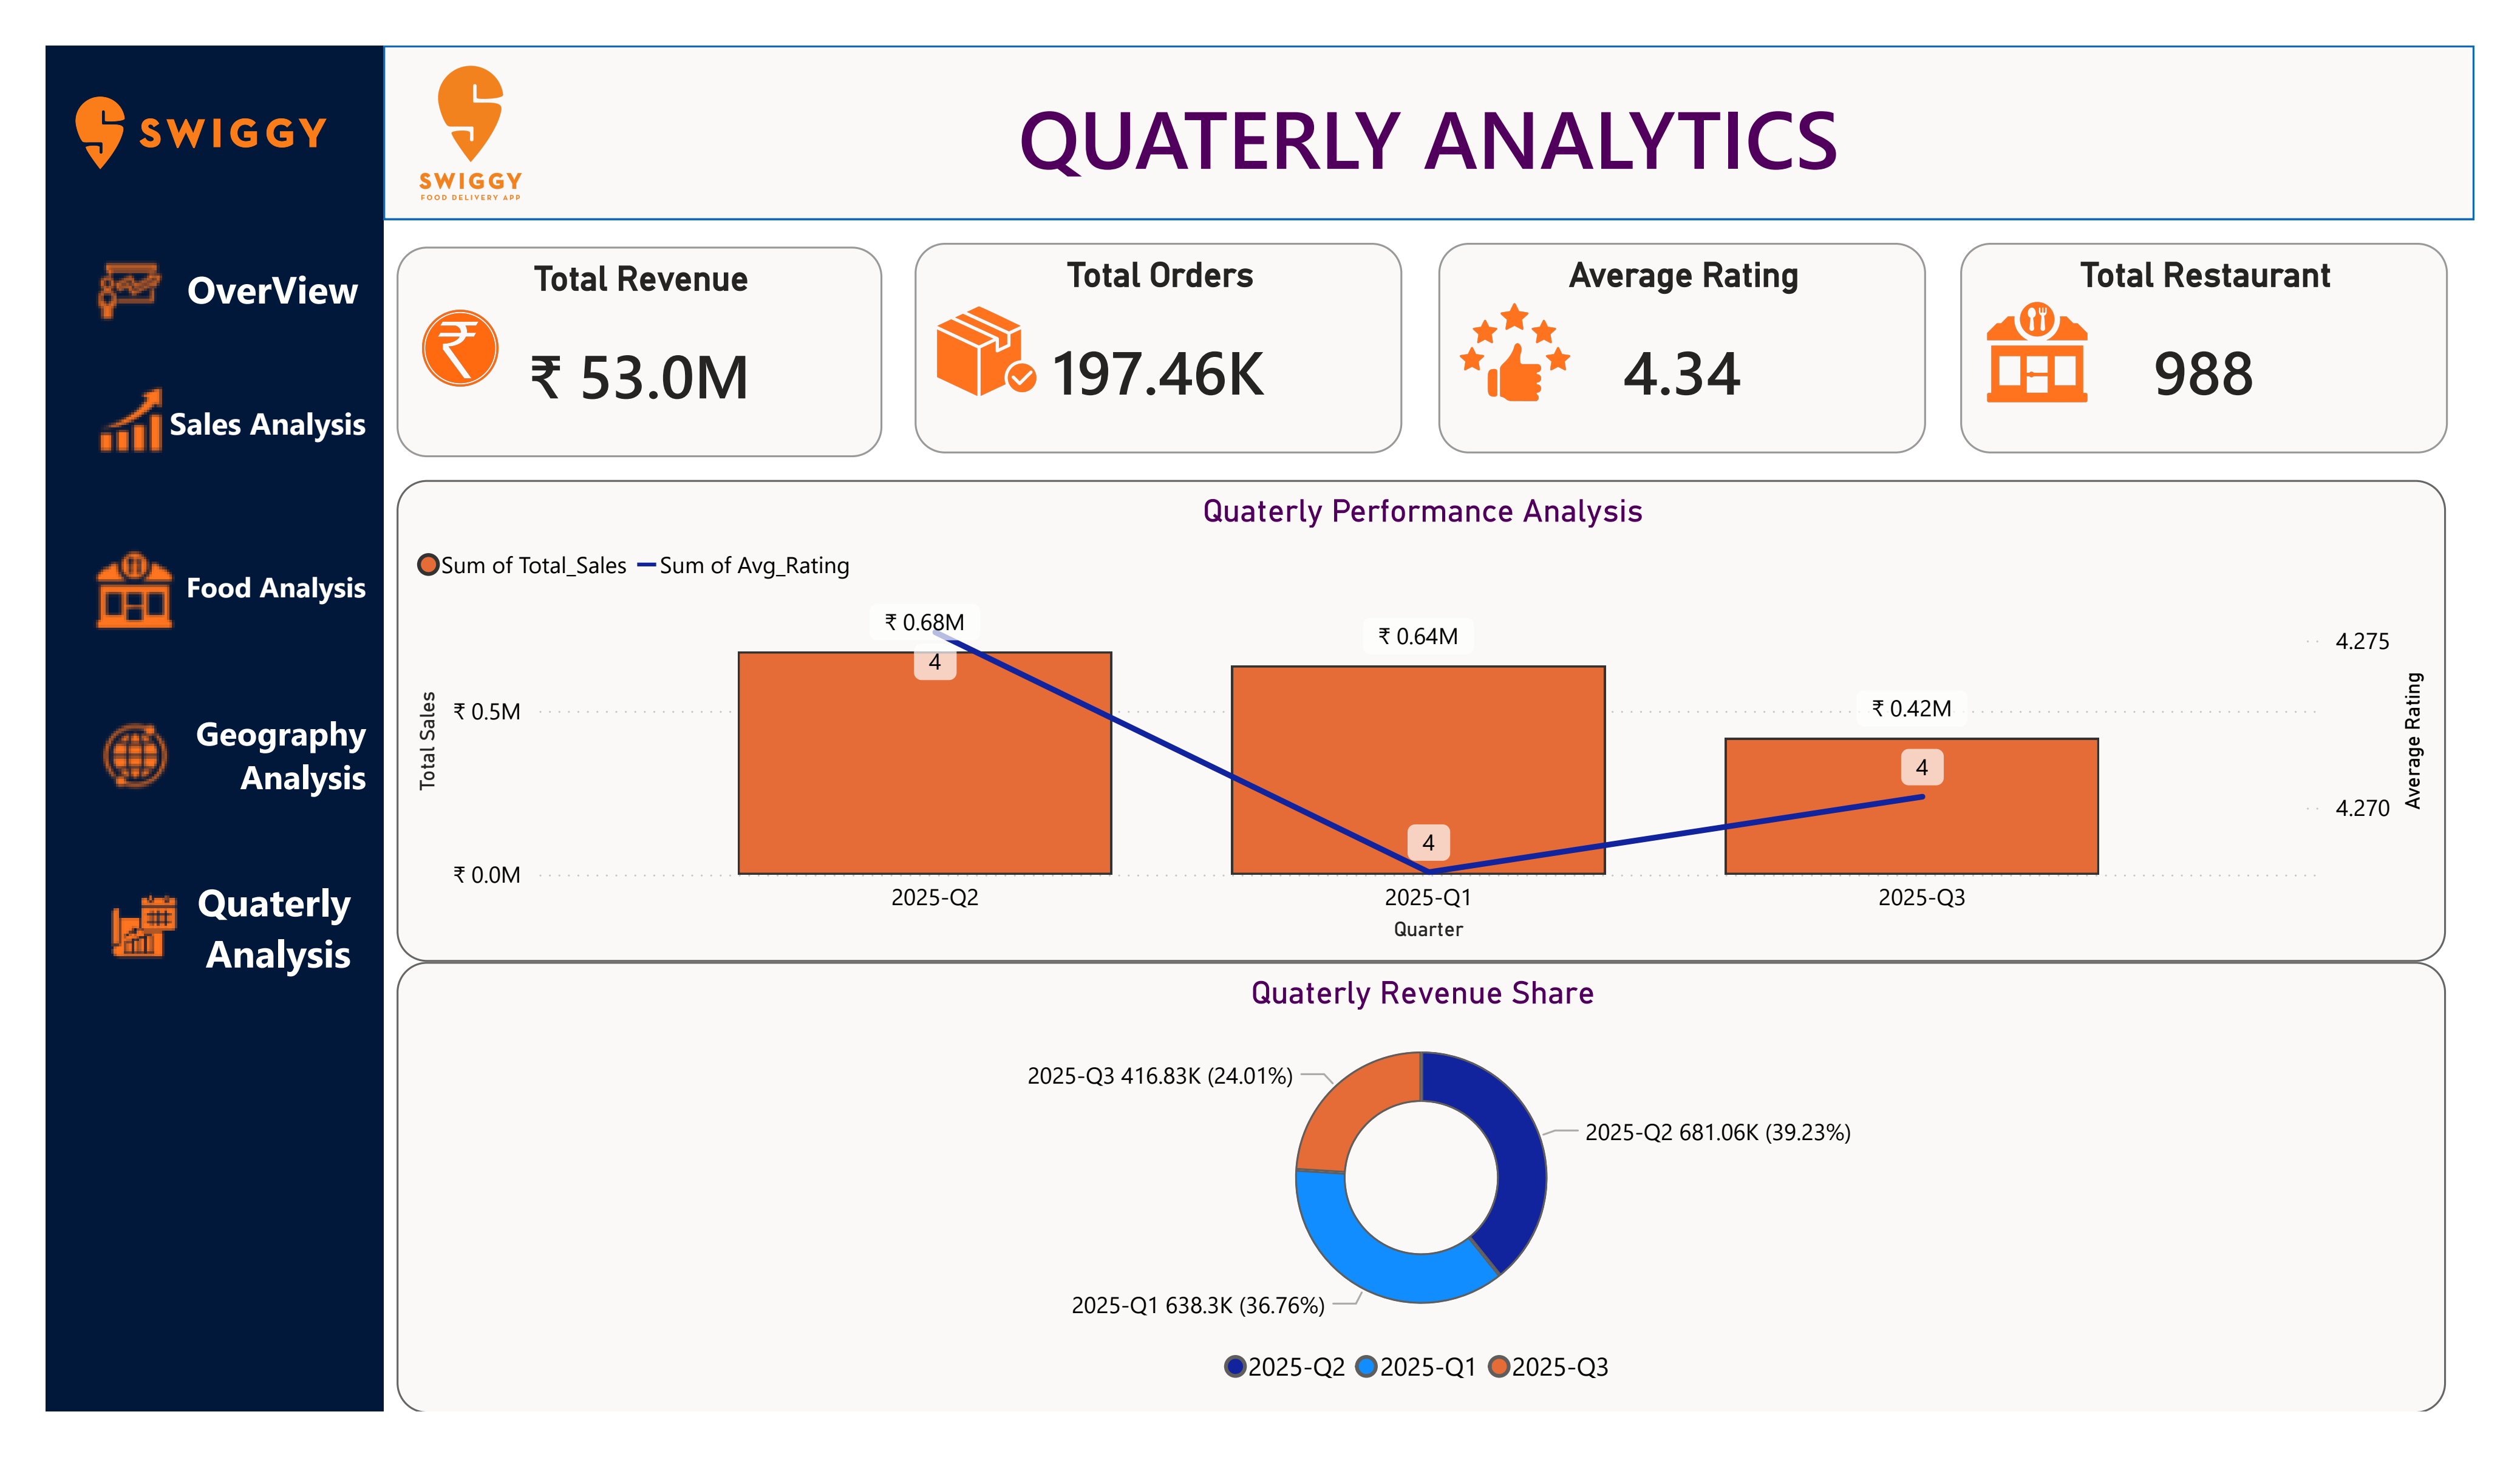

This screenshot's page, from the dashboard's own definition file:
{"tool":"powerbi","page":{"name":"Quaterly analysis","canvas":[1280,720],"ordinal":4},"visuals":[{"type":"group","id":"g1","title":"Group 1","box":[185.2,105.7,256.6,111.1],"z":0},{"type":"group","id":"g2","title":"Group 2","box":[458.3,104.3,256.6,111.1],"z":1000},{"type":"group","id":"g3","title":"Group 3","box":[733.9,104.3,256.6,111.1],"z":2000},{"type":"group","id":"g4","title":"Group 4","box":[1008.6,104.3,256.6,111.1],"z":3000},{"type":"image","box":[734.1,105.7,81,111.1],"z":4000},{"type":"image","box":[1008.6,105.7,81,111.1],"z":5000},{"type":"cardVisual","title":"Total Restaurant","fields":{"Data":["Count(swiggy_data.Restaurant Name)"]},"box":[1008.6,104.3,256.6,111.1],"z":6000,"group":"g4"},{"type":"cardVisual","title":"Total Revenue","fields":{"Data":["Sum(swiggy_data.Price (INR))"]},"box":[185.2,105.7,256,111.1],"z":6000,"group":"g1"},{"type":"image","box":[456.9,105.7,78.2,109.8],"z":6000},{"type":"image","box":[185.2,104.3,67.2,111.1],"z":7000},{"type":"cardVisual","title":"Total Orders","fields":{"Data":["CountNonNull(swiggy_data.Order Date)"]},"box":[458.3,104.3,256.6,111.1],"z":7000,"group":"g2"},{"type":"shape","box":[0,0,178.4,720.4],"z":8000},{"type":"cardVisual","title":"Average Rating","fields":{"Data":["Avg(swiggy_data.Rating)"]},"box":[733.9,104.3,256.6,111.1],"z":8000,"group":"g3"},{"type":"image","box":[16.5,0,131.7,91.9],"z":9000},{"type":"shape","box":[178.1,0,1101.9,91.9],"z":10000},{"type":"image","box":[126.2,0,196.2,91.9],"z":11000},{"type":"lineClusteredColumnComboChart","title":"Quaterly Performance Analysis","fields":{"Category":["quarterly_analysis.Quarter"],"Y":["Sum(quarterly_analysis.Total_Sales)"],"Y2":["Sum(quarterly_analysis.Avg_Rating)"]},"box":[185.2,229.2,1079.9,253.9],"z":12000},{"type":"donutChart","title":"Quaterly Revenue Share","fields":{"Y":["Sum(quarterly_analysis.Total_Sales)"],"Category":["quarterly_analysis.Quarter"]},"box":[185.1,482.5,1080.1,238.5],"z":13000},{"type":"textbox","box":[178.1,13.7,1101.9,91.9],"z":14000},{"type":"actionButton","box":[0,85.1,168.8,89.2],"z":14001},{"type":"actionButton","box":[4.1,152.3,168.8,89.2],"z":14002},{"type":"actionButton","box":[4.1,241.5,168.8,89.2],"z":14003},{"type":"actionButton","box":[3.7,419.4,168.8,89.3],"z":14004},{"type":"actionButton","box":[7.3,330.2,168.8,89.3],"z":14005}]}

Visuals, with their boxes on the page's 1280x720 design canvas (x1, y1, x2, y2). These are canvas units, not pixel positions in the 2520x1457 screenshot, which may show the page scaled, cropped or inside an application window:
"Group 1" group: (185, 106, 442, 217)
"Group 2" group: (458, 104, 715, 215)
"Group 3" group: (734, 104, 990, 215)
"Group 4" group: (1009, 104, 1265, 215)
image: (734, 106, 815, 217)
image: (1009, 106, 1090, 217)
"Total Restaurant" cardVisual: (1009, 104, 1265, 215)
"Total Revenue" cardVisual: (185, 106, 441, 217)
image: (457, 106, 535, 216)
image: (185, 104, 252, 215)
"Total Orders" cardVisual: (458, 104, 715, 215)
shape: (0, 0, 178, 720)
"Average Rating" cardVisual: (734, 104, 990, 215)
image: (16, 0, 148, 92)
shape: (178, 0, 1280, 92)
image: (126, 0, 322, 92)
"Quaterly Performance Analysis" lineClusteredColumnComboChart: (185, 229, 1265, 483)
"Quaterly Revenue Share" donutChart: (185, 482, 1265, 721)
textbox: (178, 14, 1280, 106)
actionButton: (0, 85, 169, 174)
actionButton: (4, 152, 173, 242)
actionButton: (4, 242, 173, 331)
actionButton: (4, 419, 172, 509)
actionButton: (7, 330, 176, 420)
